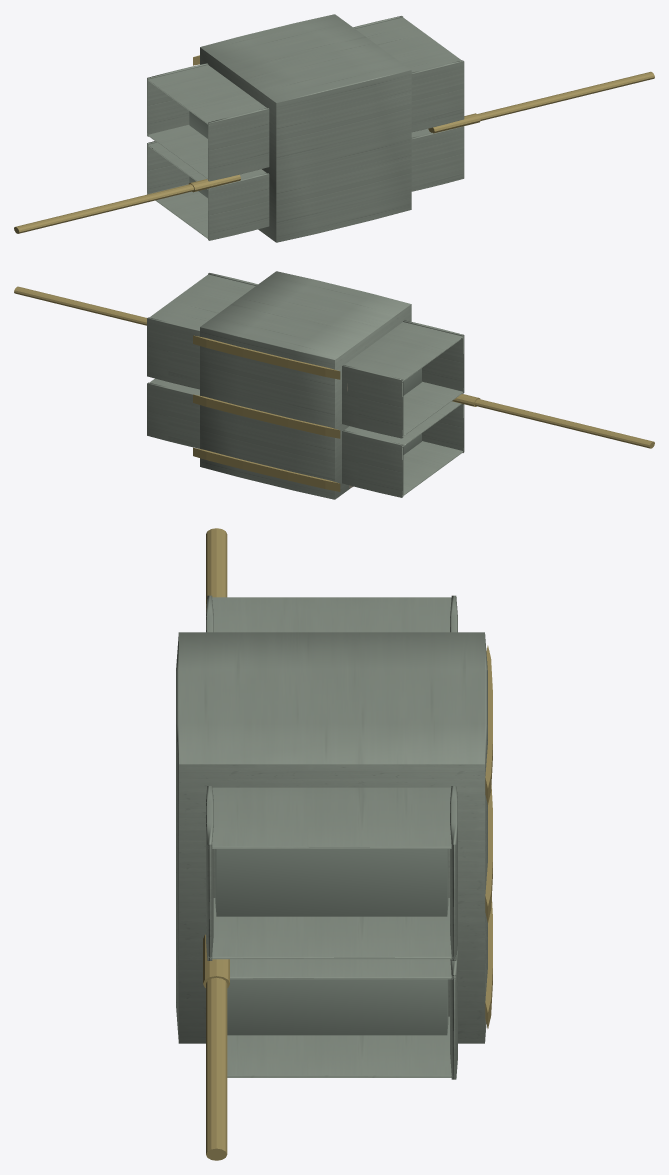
File: door_leaf.glb
The picture shows the model from 3 angles, top to bottom: view 1: azimuth 30°, elevation 25°; view 2: azimuth 150°, elevation 25°; view 3: azimuth 270°, elevation 25°; orthographic projection. The views are drawn at different scales.
Parts seen in each view (by area): view 1: door_leaf; view 2: door_leaf; view 3: door_leaf.
Boxes of the visible parts, x1=… form: door_leaf: x1=14, y1=14, x2=654, y2=242; door_leaf: x1=14, y1=271, x2=654, y2=499; door_leaf: x1=176, y1=528, x2=492, y2=1160.
Size of the model in its own units: 4.7 by 1 by 1.02.
Materials: 4 (1 with a texture image).
